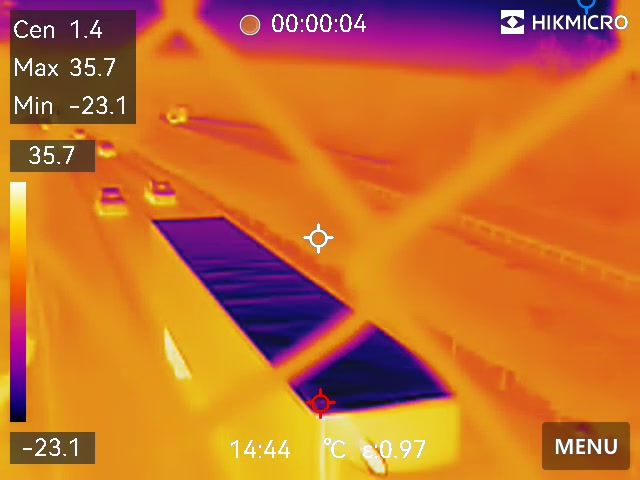heavyTruck: (148, 216, 466, 480)
vehicle: (140, 177, 180, 210), (96, 184, 129, 217), (166, 104, 191, 128), (96, 137, 119, 159), (71, 125, 86, 141)
